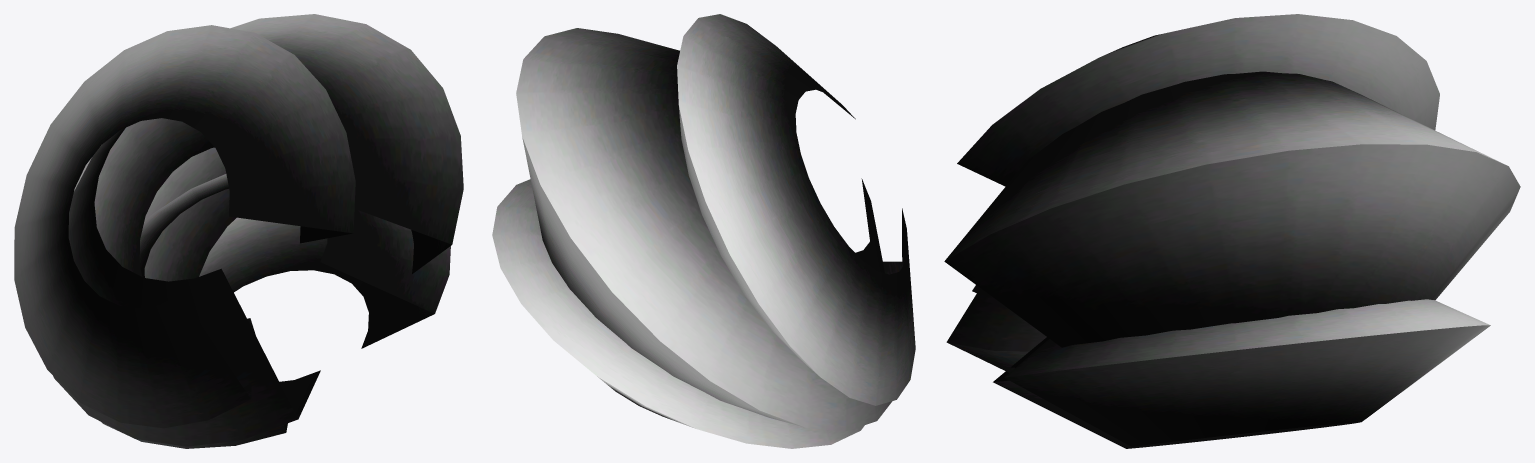
The model's file is vfx_kurp_0004.dae.
The picture shows the model from 3 angles, left to right: view 1: azimuth 30°, elevation 25°; view 2: azimuth 150°, elevation 25°; view 3: azimuth 270°, elevation 25°; orthographic projection. The views are drawn at different scales.
Parts seen in each view (by area): view 1: vfx_kurp_0004; view 2: vfx_kurp_0004; view 3: vfx_kurp_0004.
Part boxes in pixels (x1=…): vfx_kurp_0004: x1=14, y1=14, x2=463, y2=448; vfx_kurp_0004: x1=492, y1=14, x2=915, y2=448; vfx_kurp_0004: x1=944, y1=14, x2=1520, y2=448.
Bounding box in the file's own units: 3.03 × 3.32 × 2.88.
1 material, 1 textured.
